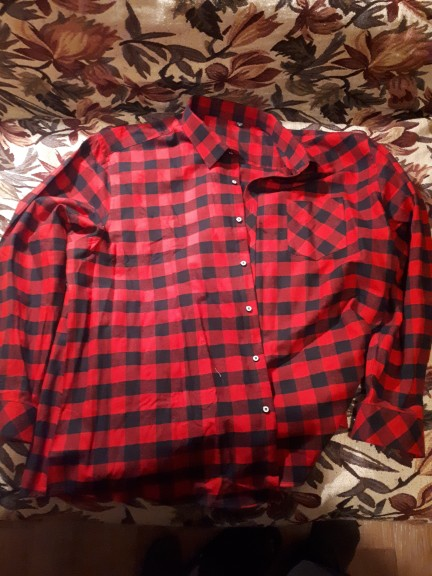shirts: (35, 104, 432, 517)
